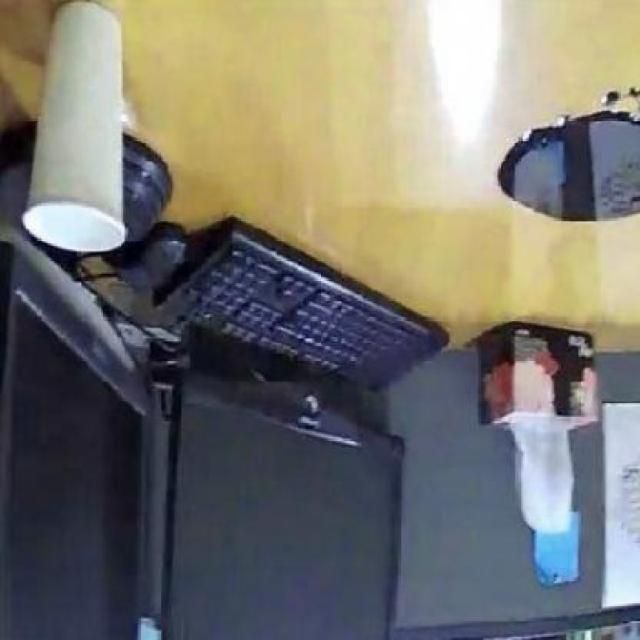spillage: (495, 98, 640, 221)
